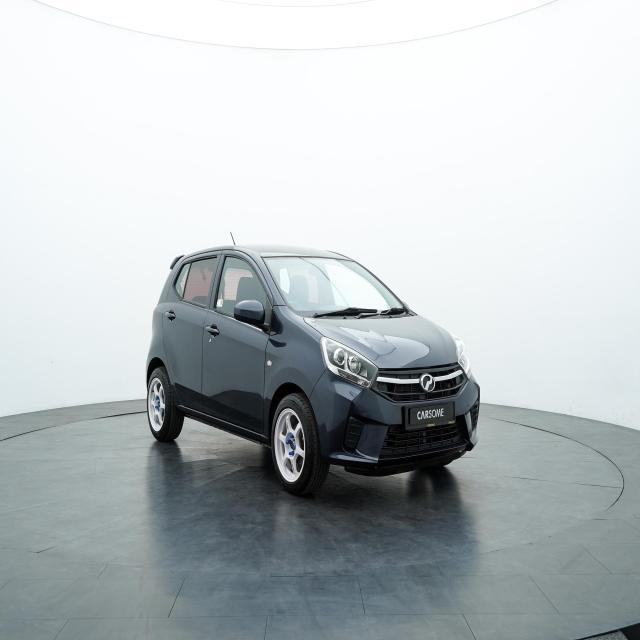PeroduaAxia: (143, 232, 481, 496)
